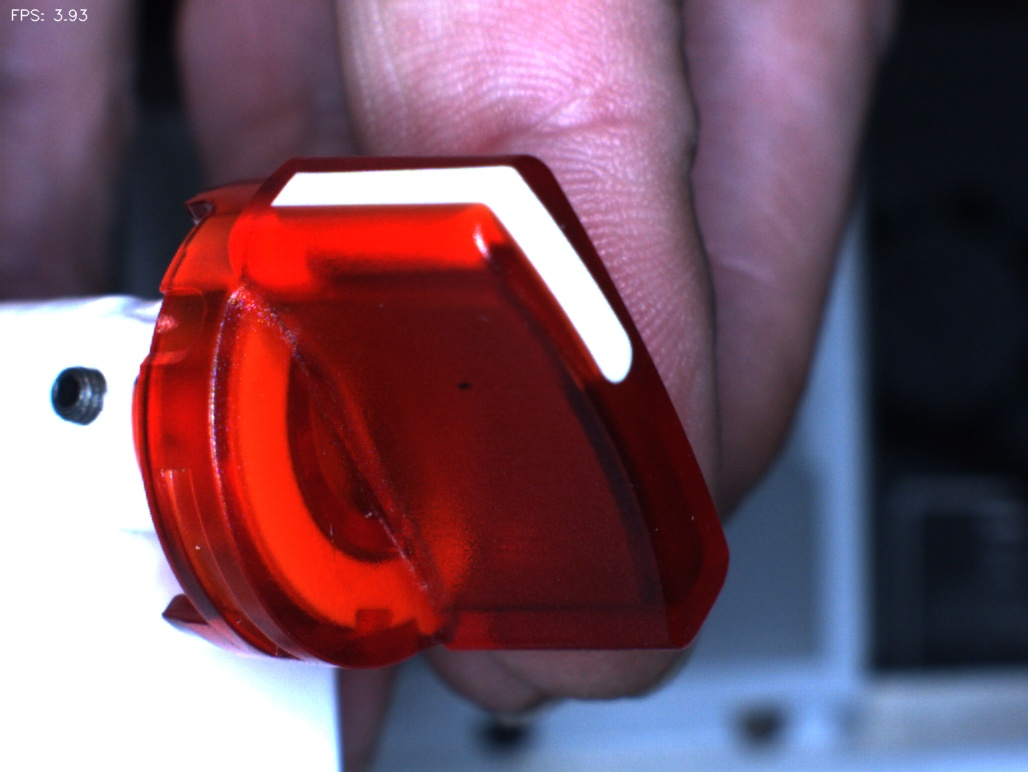PointNoir: (430, 359, 505, 425)
